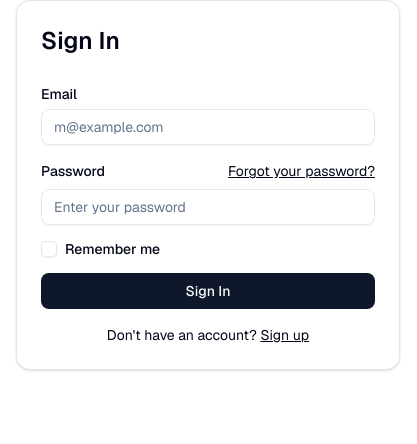
Test: LoginForm › when user enters invalid data › should require email and password fields
The image size is (417, 444).
Submit form without filling fields
Click the button "Sign In": [208, 291] box x1=41 y1=273 x2=375 y2=309
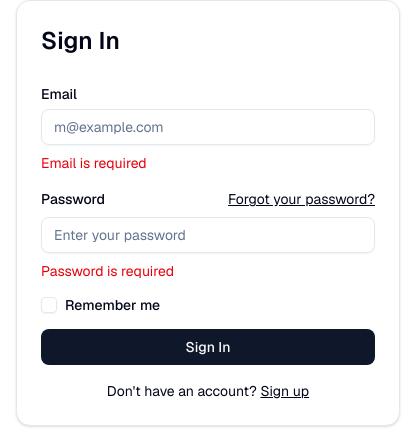
Expected: the text "Email is required" is shown, x1=41 y1=154 x2=147 y2=172
Expected: the text "Password is required" is shown, x1=41 y1=262 x2=174 y2=280
